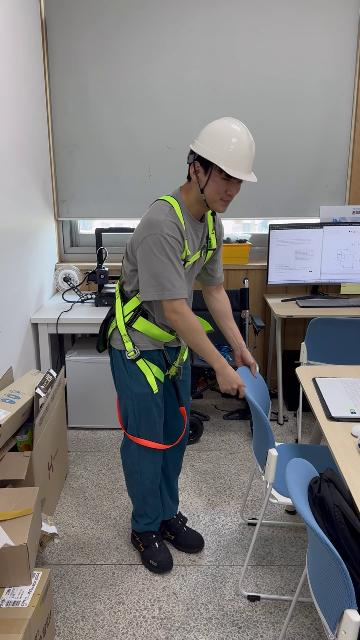helmet_worn: (188, 116, 260, 182)
shoe_worn: (131, 527, 173, 574), (159, 512, 203, 553)
vest_worn: (104, 198, 219, 392)
